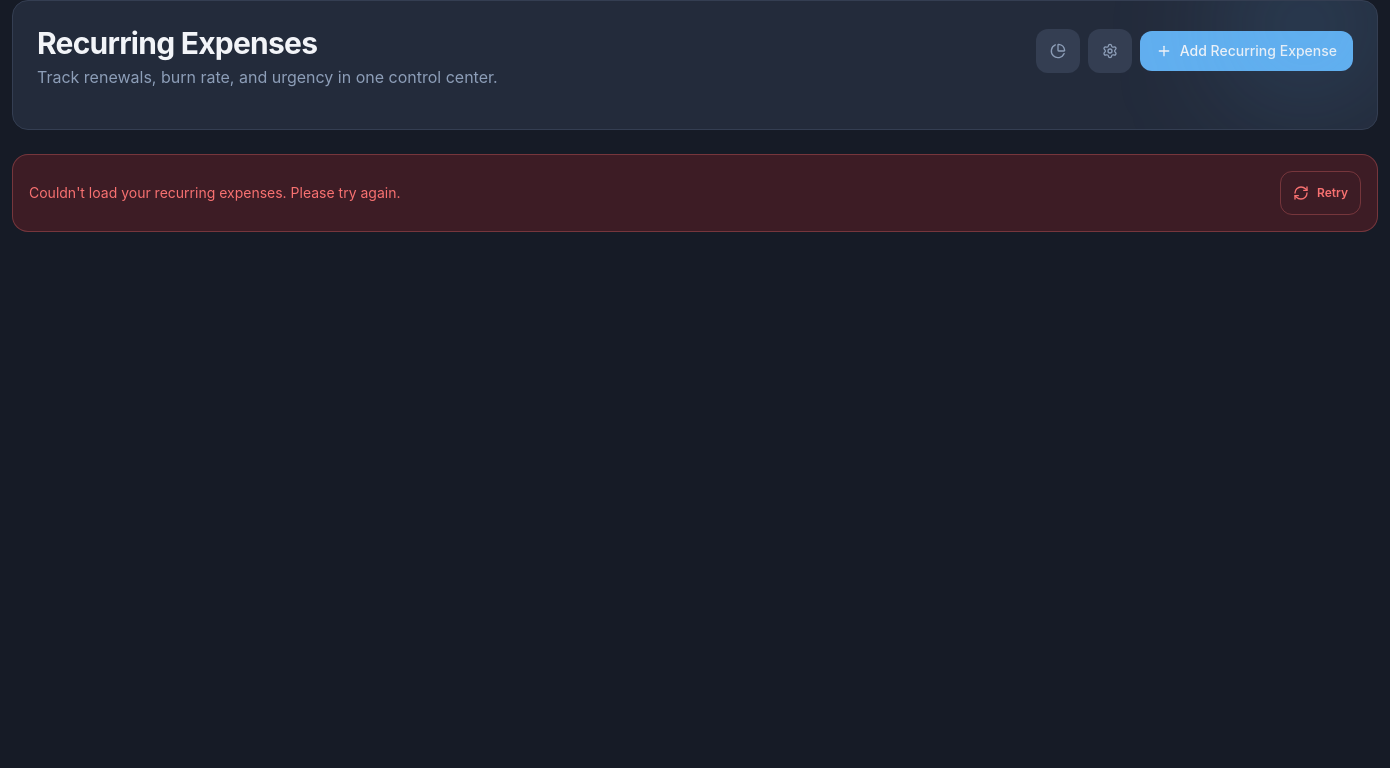
Test: RecurringExpensesAdminView › shows a retryable error instead of an empty state when expenses fail to load
Expected: the message "Couldn't load your recurring expenses. Please try again. Retry" is shown, [12,154,1378,232]
Click the button with aria-label "retry loading recurring expenses": (1320, 193) [1280,171,1361,215]
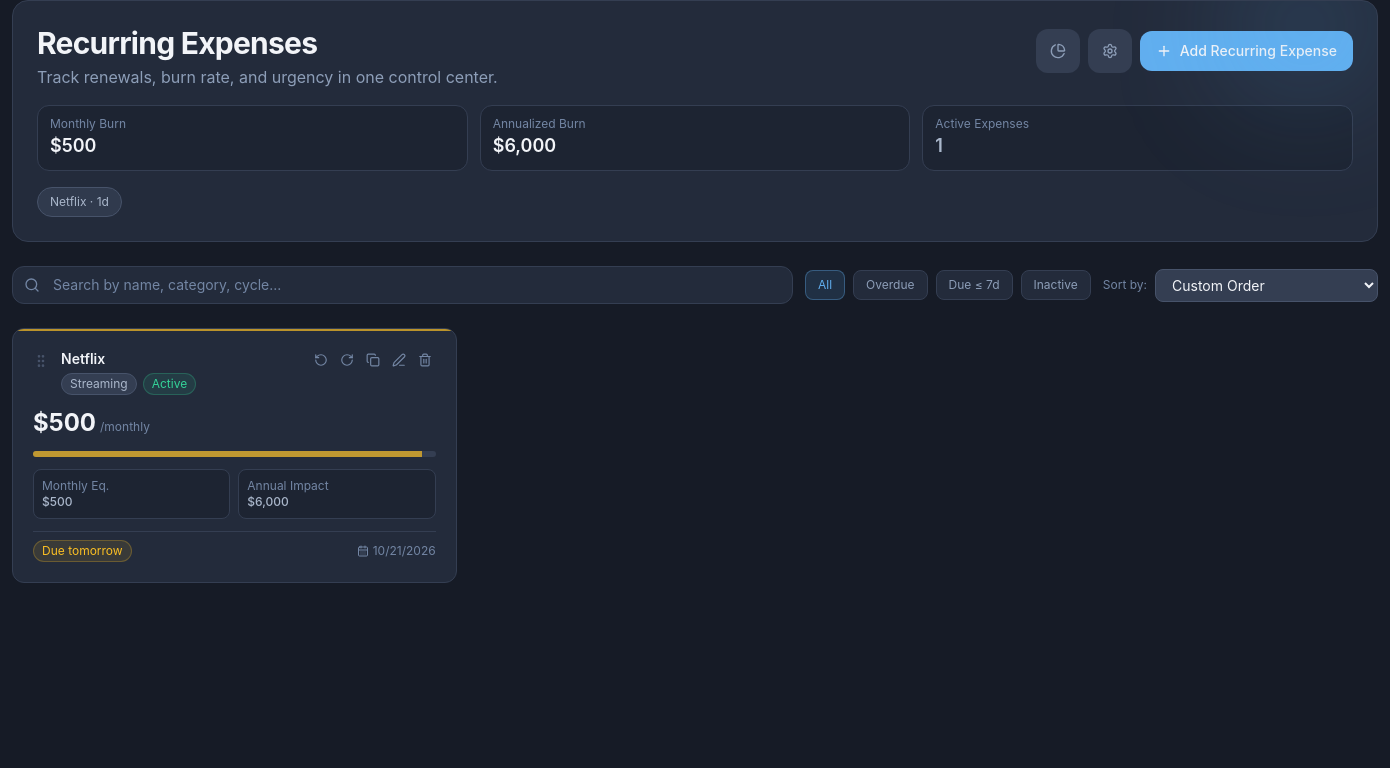
Expected: the text "Netflix" is shown, [61,350,105,367]
